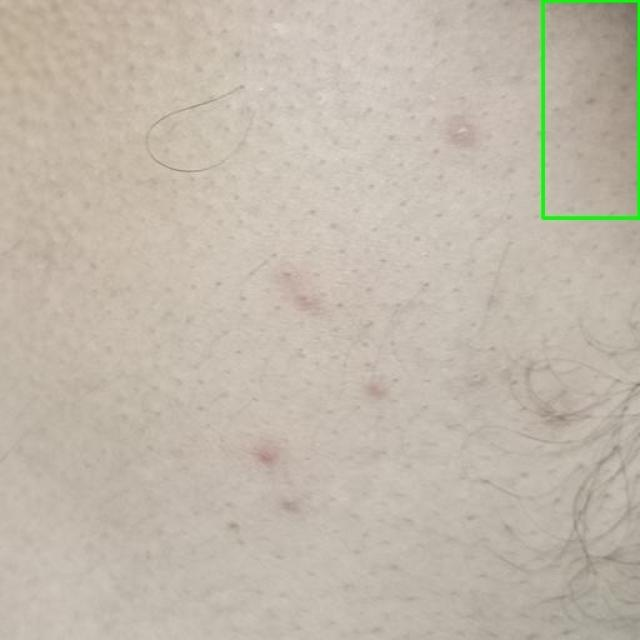Eczema: (542, 0, 639, 218)
